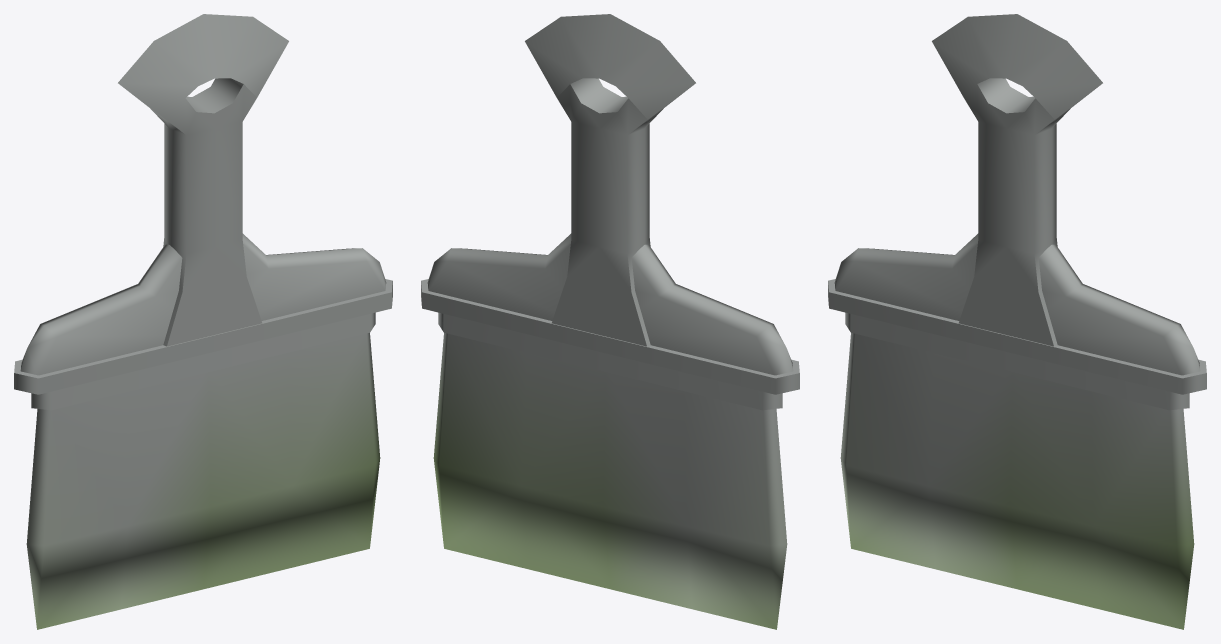
The picture shows the model from 3 angles, left to right: view 1: azimuth 30°, elevation 25°; view 2: azimuth 150°, elevation 25°; view 3: azimuth 330°, elevation 25°; orthographic projection.
Visible parts, largest first — view 1: G:\FFXIV-MapTools\exports\n4f1\bg\ex3\01_nvt_n4\fld\n4f1\bgp; view 2: G:\FFXIV-MapTools\exports\n4f1\bg\ex3\01_nvt_n4\fld\n4f1\bgp; view 3: G:\FFXIV-MapTools\exports\n4f1\bg\ex3\01_nvt_n4\fld\n4f1\bgp.
Part boxes in pixels (left/top/right/bottom): G:\FFXIV-MapTools\exports\n4f1\bg\ex3\01_nvt_n4\fld\n4f1\bgp: left=14, top=14, right=392, bottom=629; G:\FFXIV-MapTools\exports\n4f1\bg\ex3\01_nvt_n4\fld\n4f1\bgp: left=421, top=14, right=799, bottom=629; G:\FFXIV-MapTools\exports\n4f1\bg\ex3\01_nvt_n4\fld\n4f1\bgp: left=828, top=14, right=1206, bottom=629.
Bounding box in the file's own units: 0.2549 × 0.37 × 0.0272.
